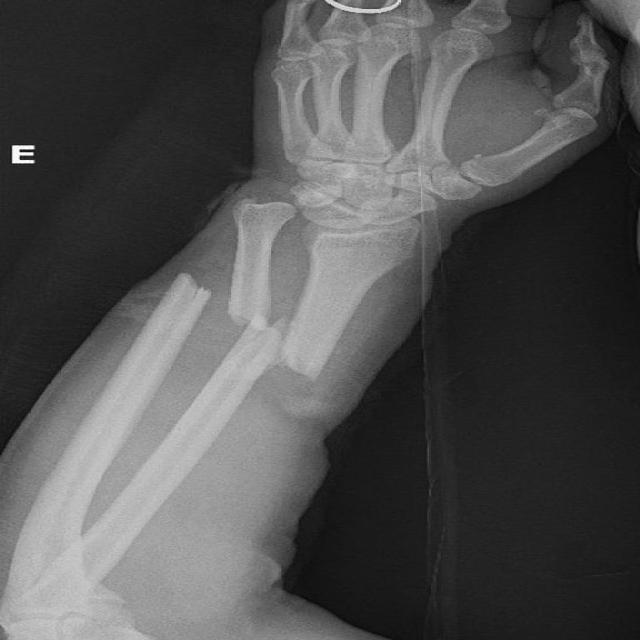bone: (145, 253, 339, 402)
